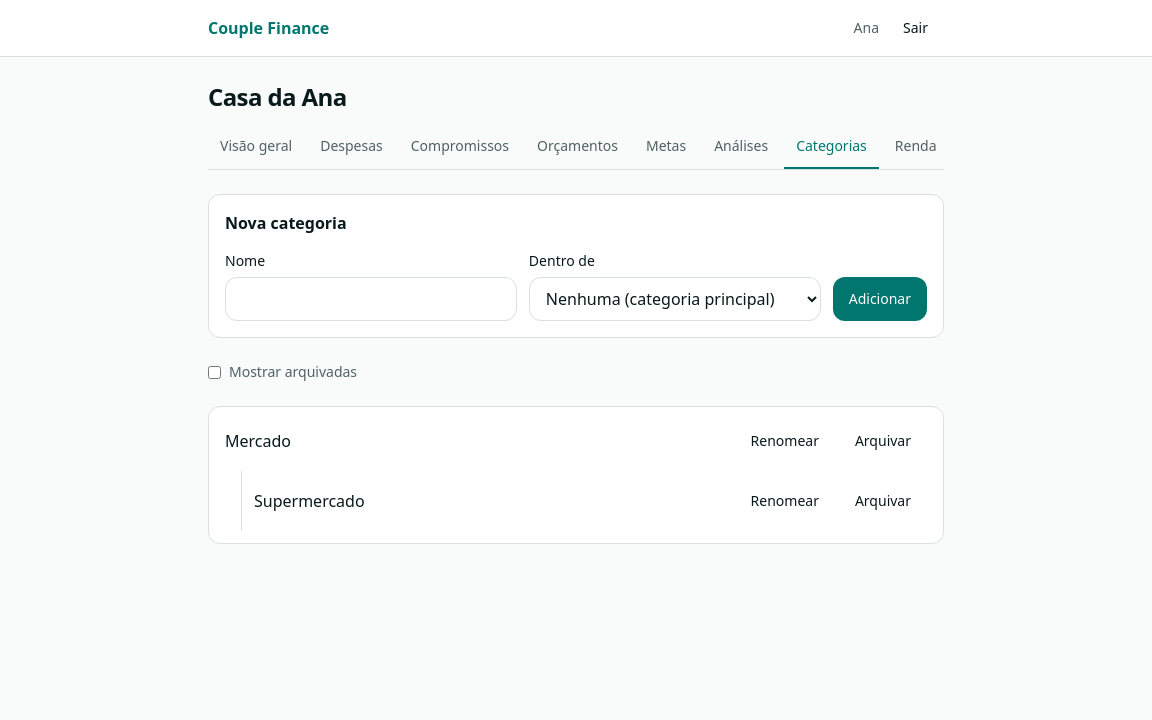
ledger screens › explains a duplicate category name
Type "mercado" into the field labelled "Nome" at [371, 299], box x1=225 y1=277 x2=517 y2=321
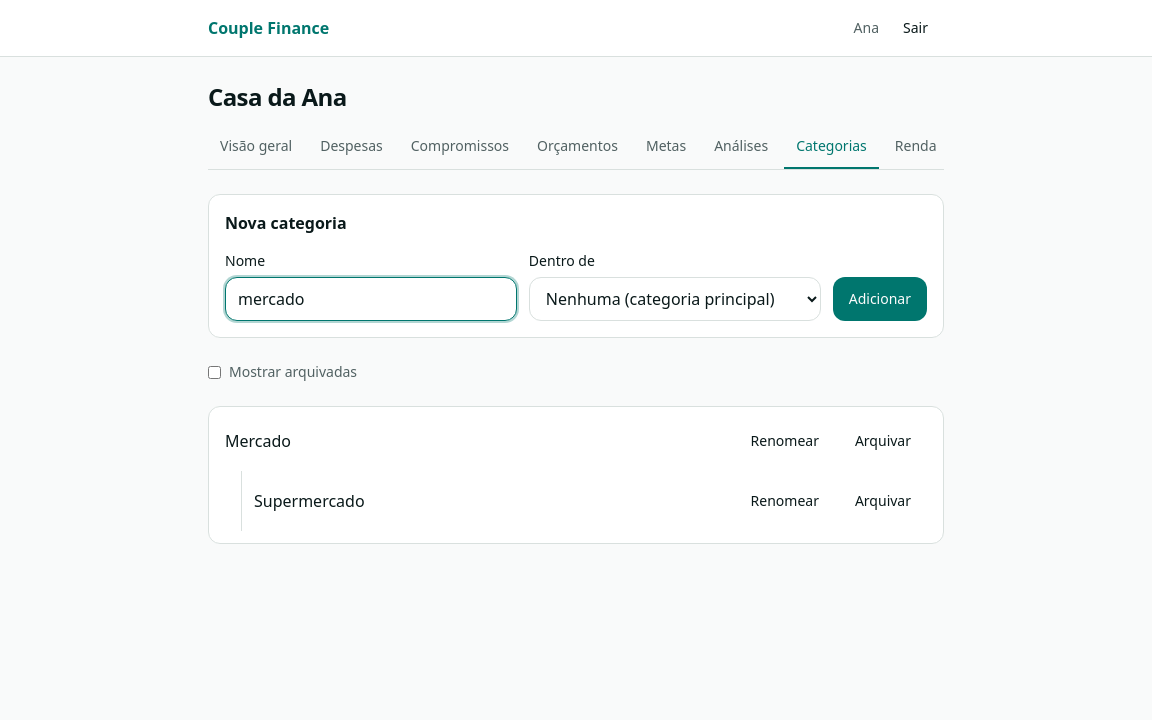
Click the button "Adicionar" at [880, 299], box x1=833 y1=277 x2=927 y2=321
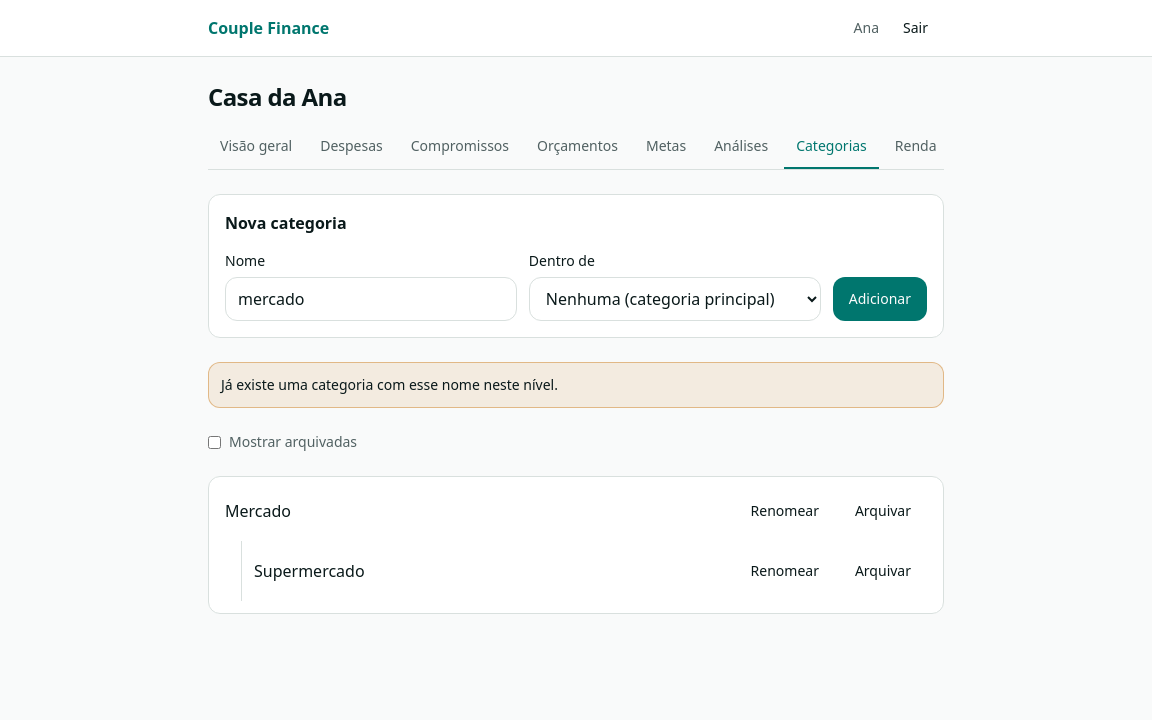
Expected: the message reads "Já existe uma categoria com esse nome neste nível.", x1=221 y1=375 x2=558 y2=394
